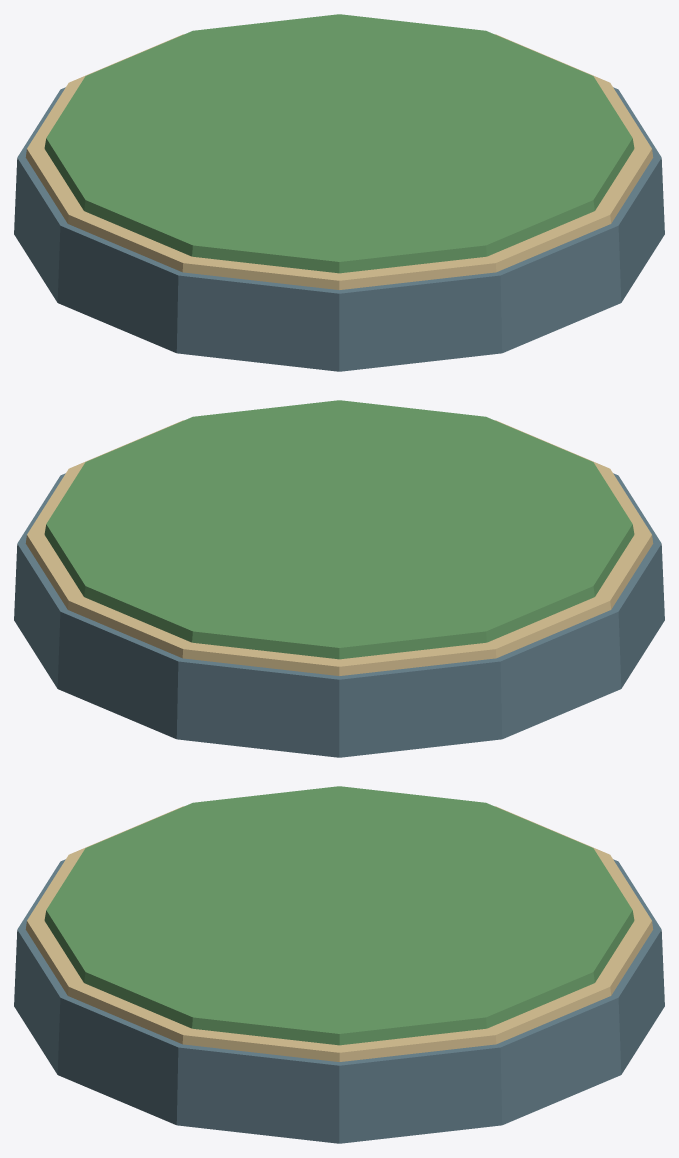
Rendered from CoastTile.fbx.
3 views of the same model, one above another, from view 1: azimuth 30°, elevation 25°; view 2: azimuth 150°, elevation 25°; view 3: azimuth 270°, elevation 25° (orthographic).
Parts seen in each view (by area): view 1: CoastTile_Static; view 2: CoastTile_Static; view 3: CoastTile_Static.
Part boxes in pixels (x1,y1,x2,y2): CoastTile_Static: [14, 14, 664, 371]; CoastTile_Static: [14, 400, 664, 757]; CoastTile_Static: [14, 786, 664, 1143].
Size of the model in its own units: 10 by 1.63 by 10.
1 material, 1 textured.
